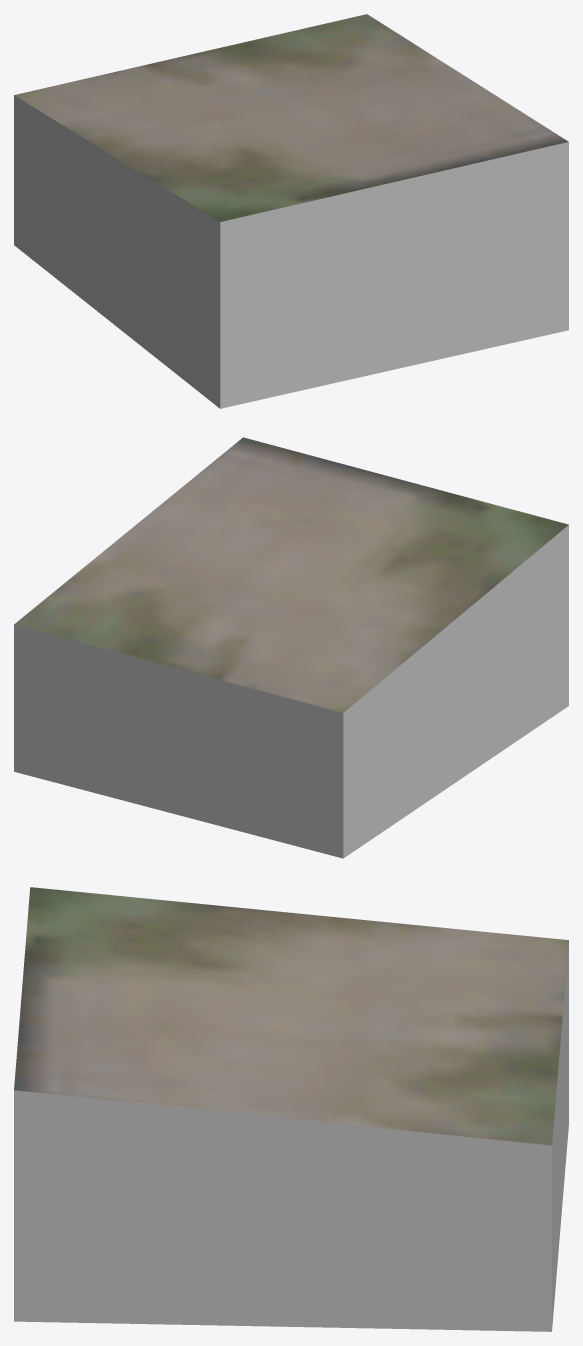
File: DEBW_0010007TxeK.gltf
3 renders of one model, top to bottom at view 1: azimuth 30°, elevation 25°; view 2: azimuth 150°, elevation 25°; view 3: azimuth 270°, elevation 25°, orthographic. The views are drawn at different scales.
Parts seen in each view (by area): view 1: Z_UP; view 2: Z_UP; view 3: Z_UP.
Boxes of the visible parts, left/top/right/bottom form: Z_UP: left=14, top=14, right=568, bottom=408; Z_UP: left=14, top=437, right=568, bottom=858; Z_UP: left=14, top=887, right=568, bottom=1331.
Bounding box in the file's own units: 6.29 × 3.15 × 6.85.
Materials: 2 (1 with a texture image).
